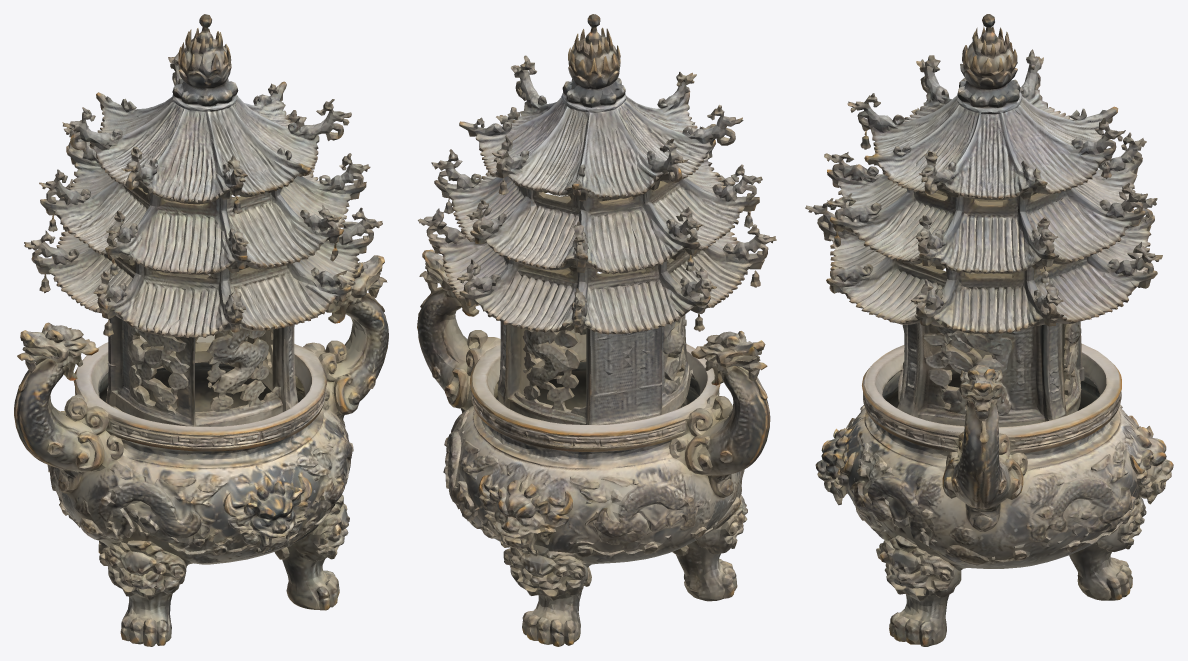
The model's file is courtyard.glb.
3 renders of one model, left to right at view 1: azimuth 30°, elevation 25°; view 2: azimuth 150°, elevation 25°; view 3: azimuth 270°, elevation 25°, orthographic.
Parts seen in each view (by area): view 1: model; view 2: model; view 3: model.
Part boxes in pixels (bbox=[...]): model: bbox=[14, 14, 388, 646]; model: bbox=[417, 14, 776, 646]; model: bbox=[805, 14, 1173, 646].
Size of the model in its own units: 1.24 by 1.89 by 1.08.
Materials: 1 (1 with a texture image).
